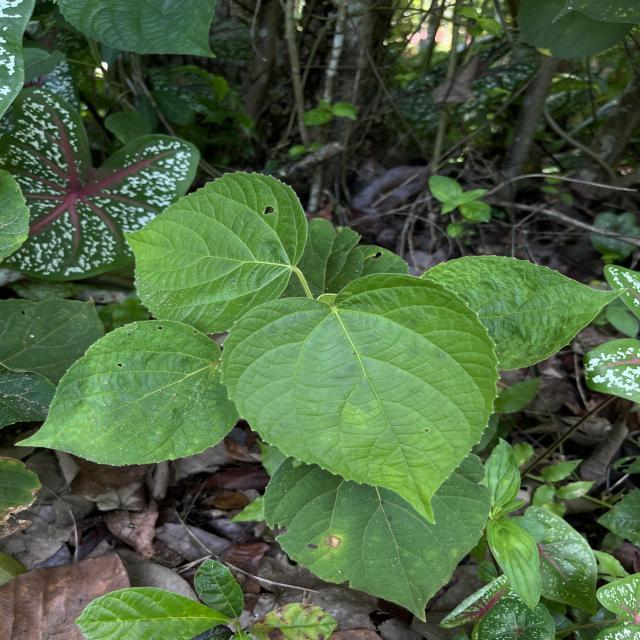Clerodendrum infortunatum: (216, 272, 502, 527), (261, 452, 495, 624), (12, 318, 240, 468), (120, 170, 309, 334), (420, 254, 630, 372)
